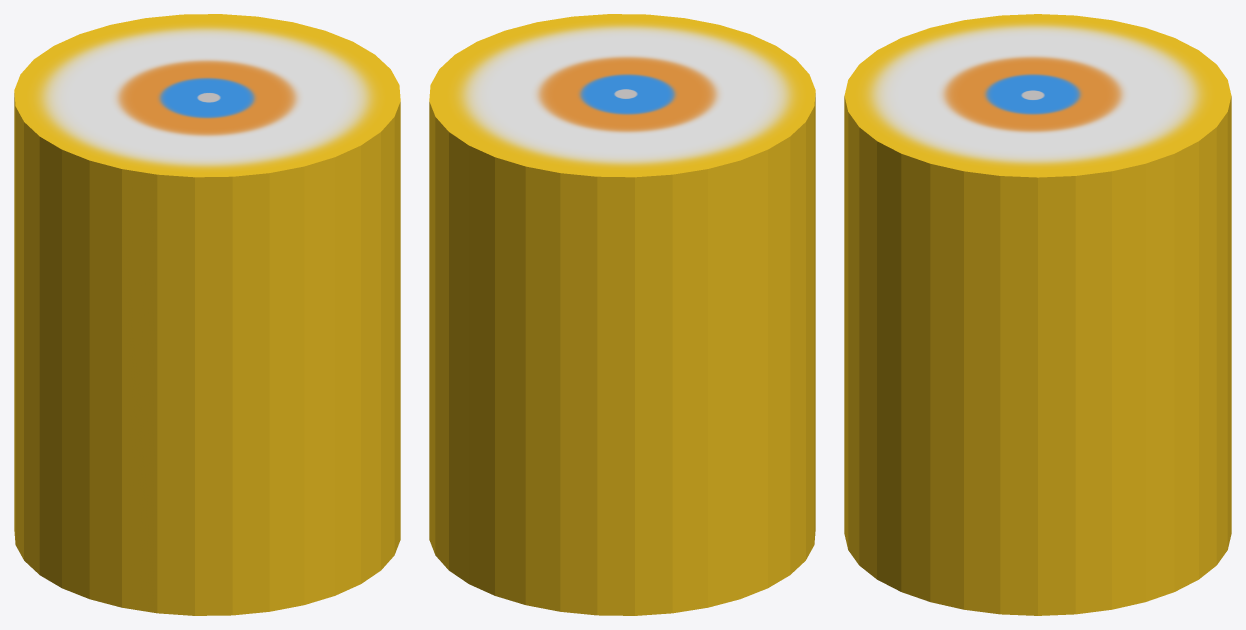
The model's file is fibra.fbx.
The picture shows the model from 3 angles, left to right: view 1: azimuth 30°, elevation 25°; view 2: azimuth 150°, elevation 25°; view 3: azimuth 270°, elevation 25°; orthographic projection.
Visible parts, largest first — view 1: Cylinder; view 2: Cylinder; view 3: Cylinder.
Boxes of the visible parts, x1,y1,x2,y2 form: Cylinder: [14, 14, 400, 615]; Cylinder: [429, 14, 815, 615]; Cylinder: [844, 14, 1231, 615].
Bounding box in the file's own units: 200 × 250 × 200.
